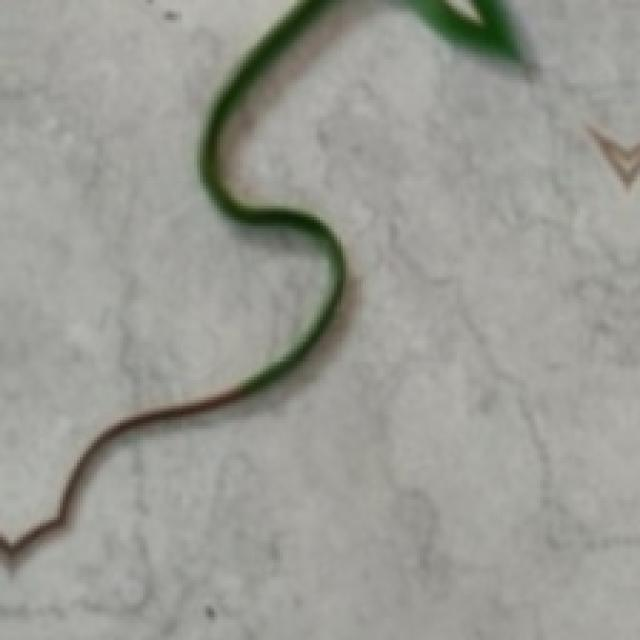red-tailed green ratsnake: (0, 0, 345, 553), (408, 0, 520, 61), (471, 0, 518, 58)
